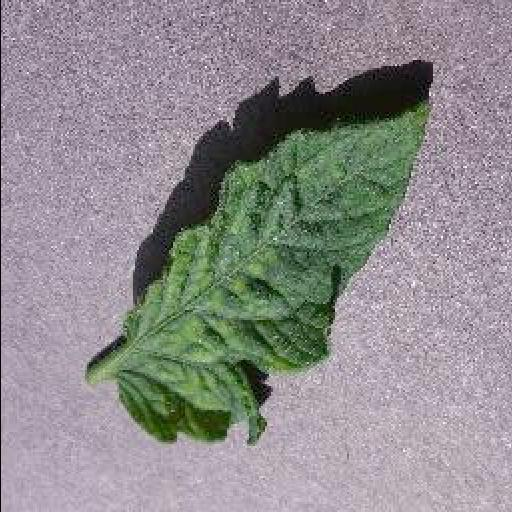Mosaic Virus: (110, 98, 436, 450)
